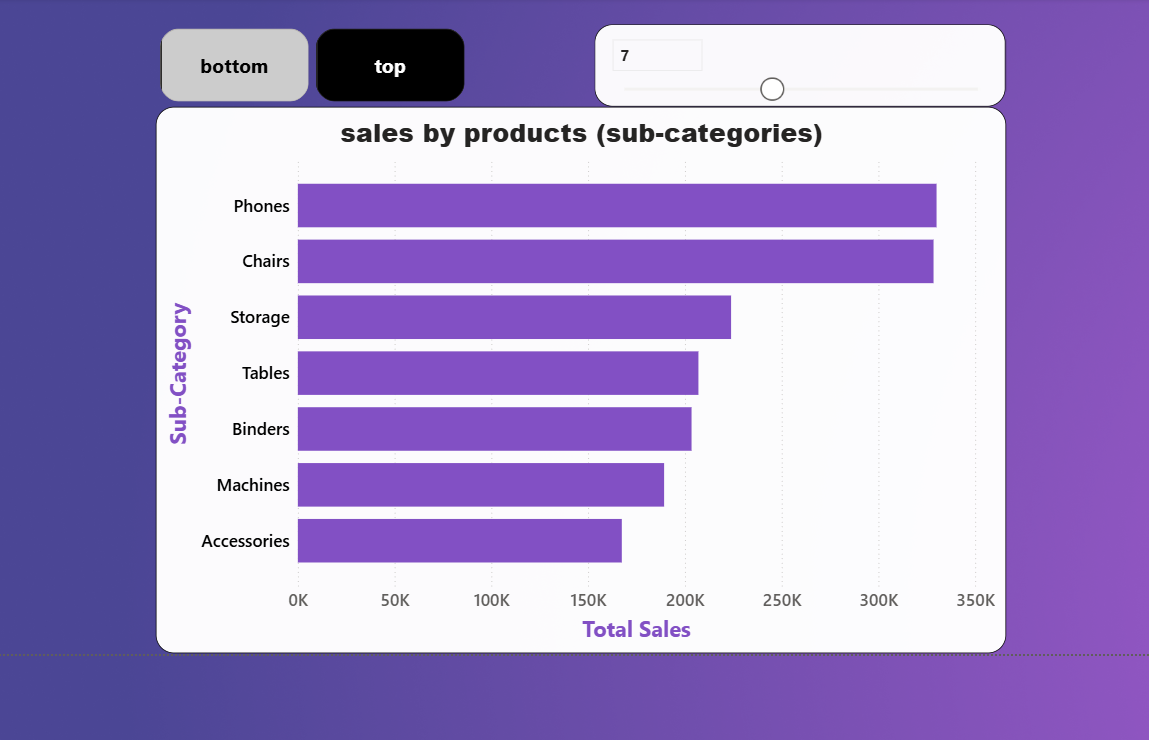

This screenshot's page, from the dashboard's own definition file:
{"tool":"powerbi","page":{"name":"Page 3","canvas":[1280,720],"ordinal":2},"visuals":[{"type":"advancedSlicerVisual","fields":{"Values":["top/bottom.value"]},"box":[174.3,28.8,344.4,90.6],"z":0},{"type":"clusteredBarChart","title":"sales by products (sub-categories)","fields":{"Category":["Orders.Sub-Category"],"Y":["Orders.Total Sales"]},"box":[173.9,119.7,933.6,600.1],"z":1000},{"type":"slicer","fields":{"Values":["Parameter 2.Parameter"]},"box":[655.9,28.8,451.5,90.6],"z":2000}]}

Visuals, with their boxes on the page's 1280x720 design canvas (x1, y1, x2, y2). These are canvas units, not pixel positions in the 1149x740 screenshot, which may show the page scaled, cropped or inside an application window:
advancedSlicerVisual - top/bottom.value: x1=174, y1=29, x2=519, y2=119
"sales by products (sub-categories)" clusteredBarChart: x1=174, y1=120, x2=1108, y2=720
slicer - Parameter 2.Parameter: x1=656, y1=29, x2=1107, y2=119
